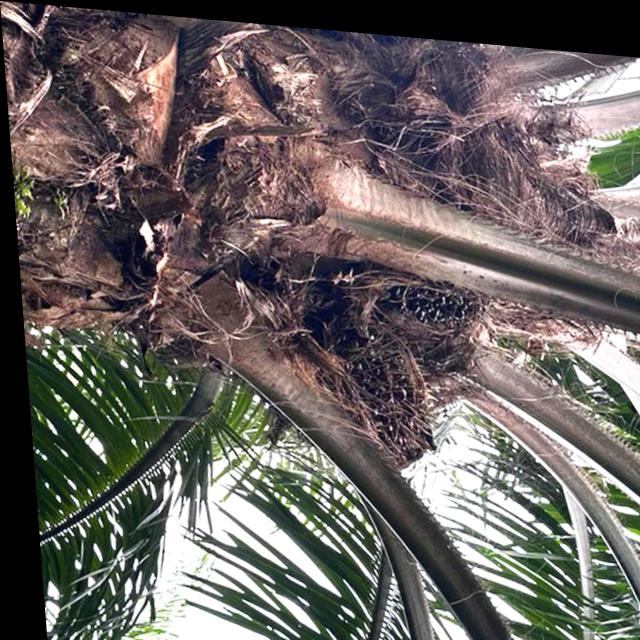ripe: (298, 296, 440, 474)
